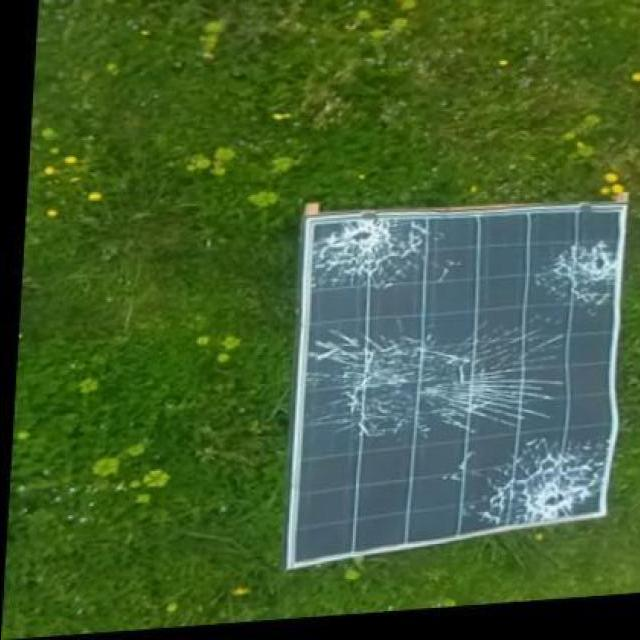cracked: (282, 192, 630, 573)
